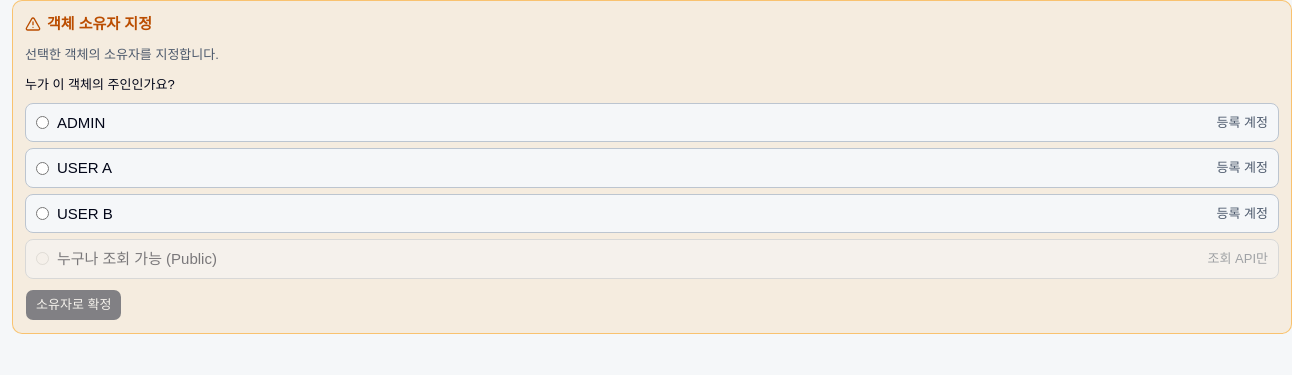
Scenario: shows a save error and retains the selection for retry
Click the radio button labelled "USER A 등록 계정" at x=42, y=168, box [36,162,49,174]
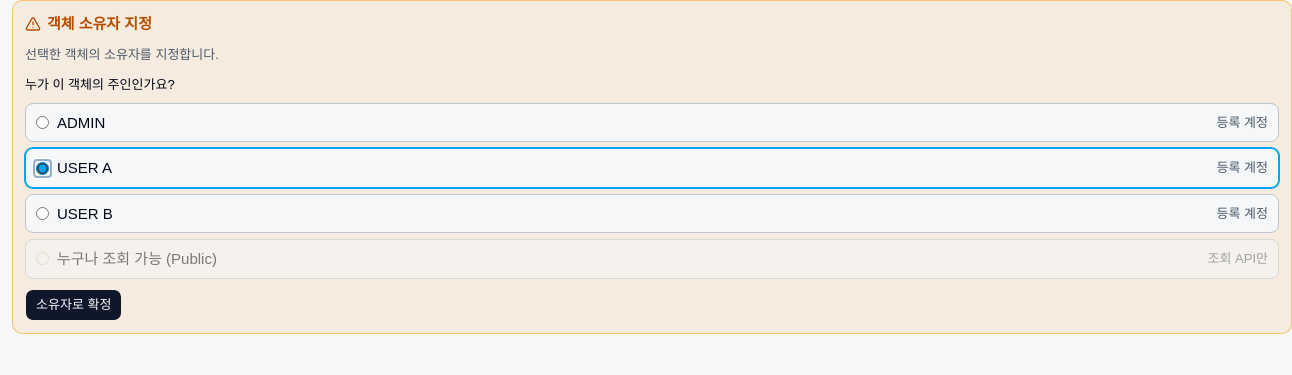
Click the button "소유자로 확정" at x=74, y=305, box [25,289,122,321]
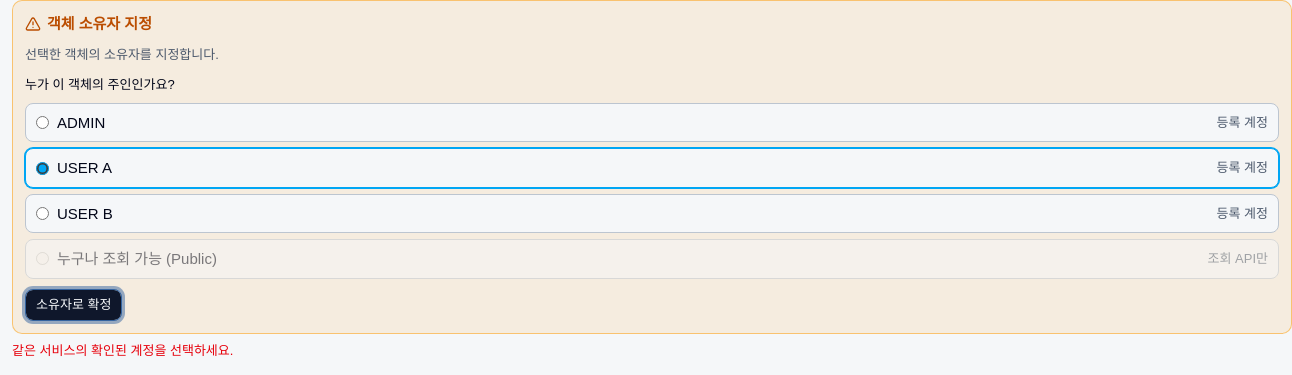
Expected: the radio button labelled "USER A 등록 계정" is checked, [36,162,49,174]
Expected: the message reads "같은 서비스의 확인된 계정을 선택하세요.", [12,343,233,358]
Click the button "소유자로 확정" at x=74, y=305, box [25,289,122,321]
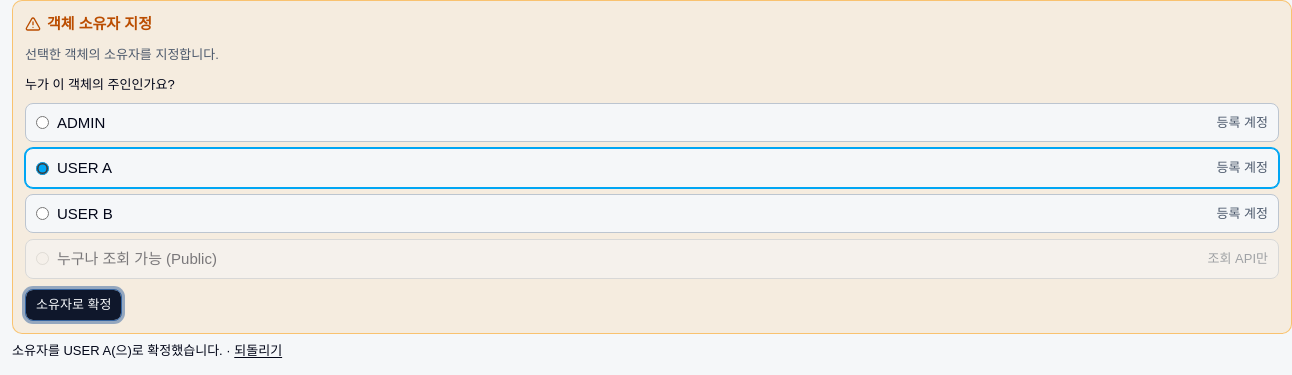
Expected: the message shows "소유자를 USER A(으)로 확정했습니다", [12,343,223,358]
